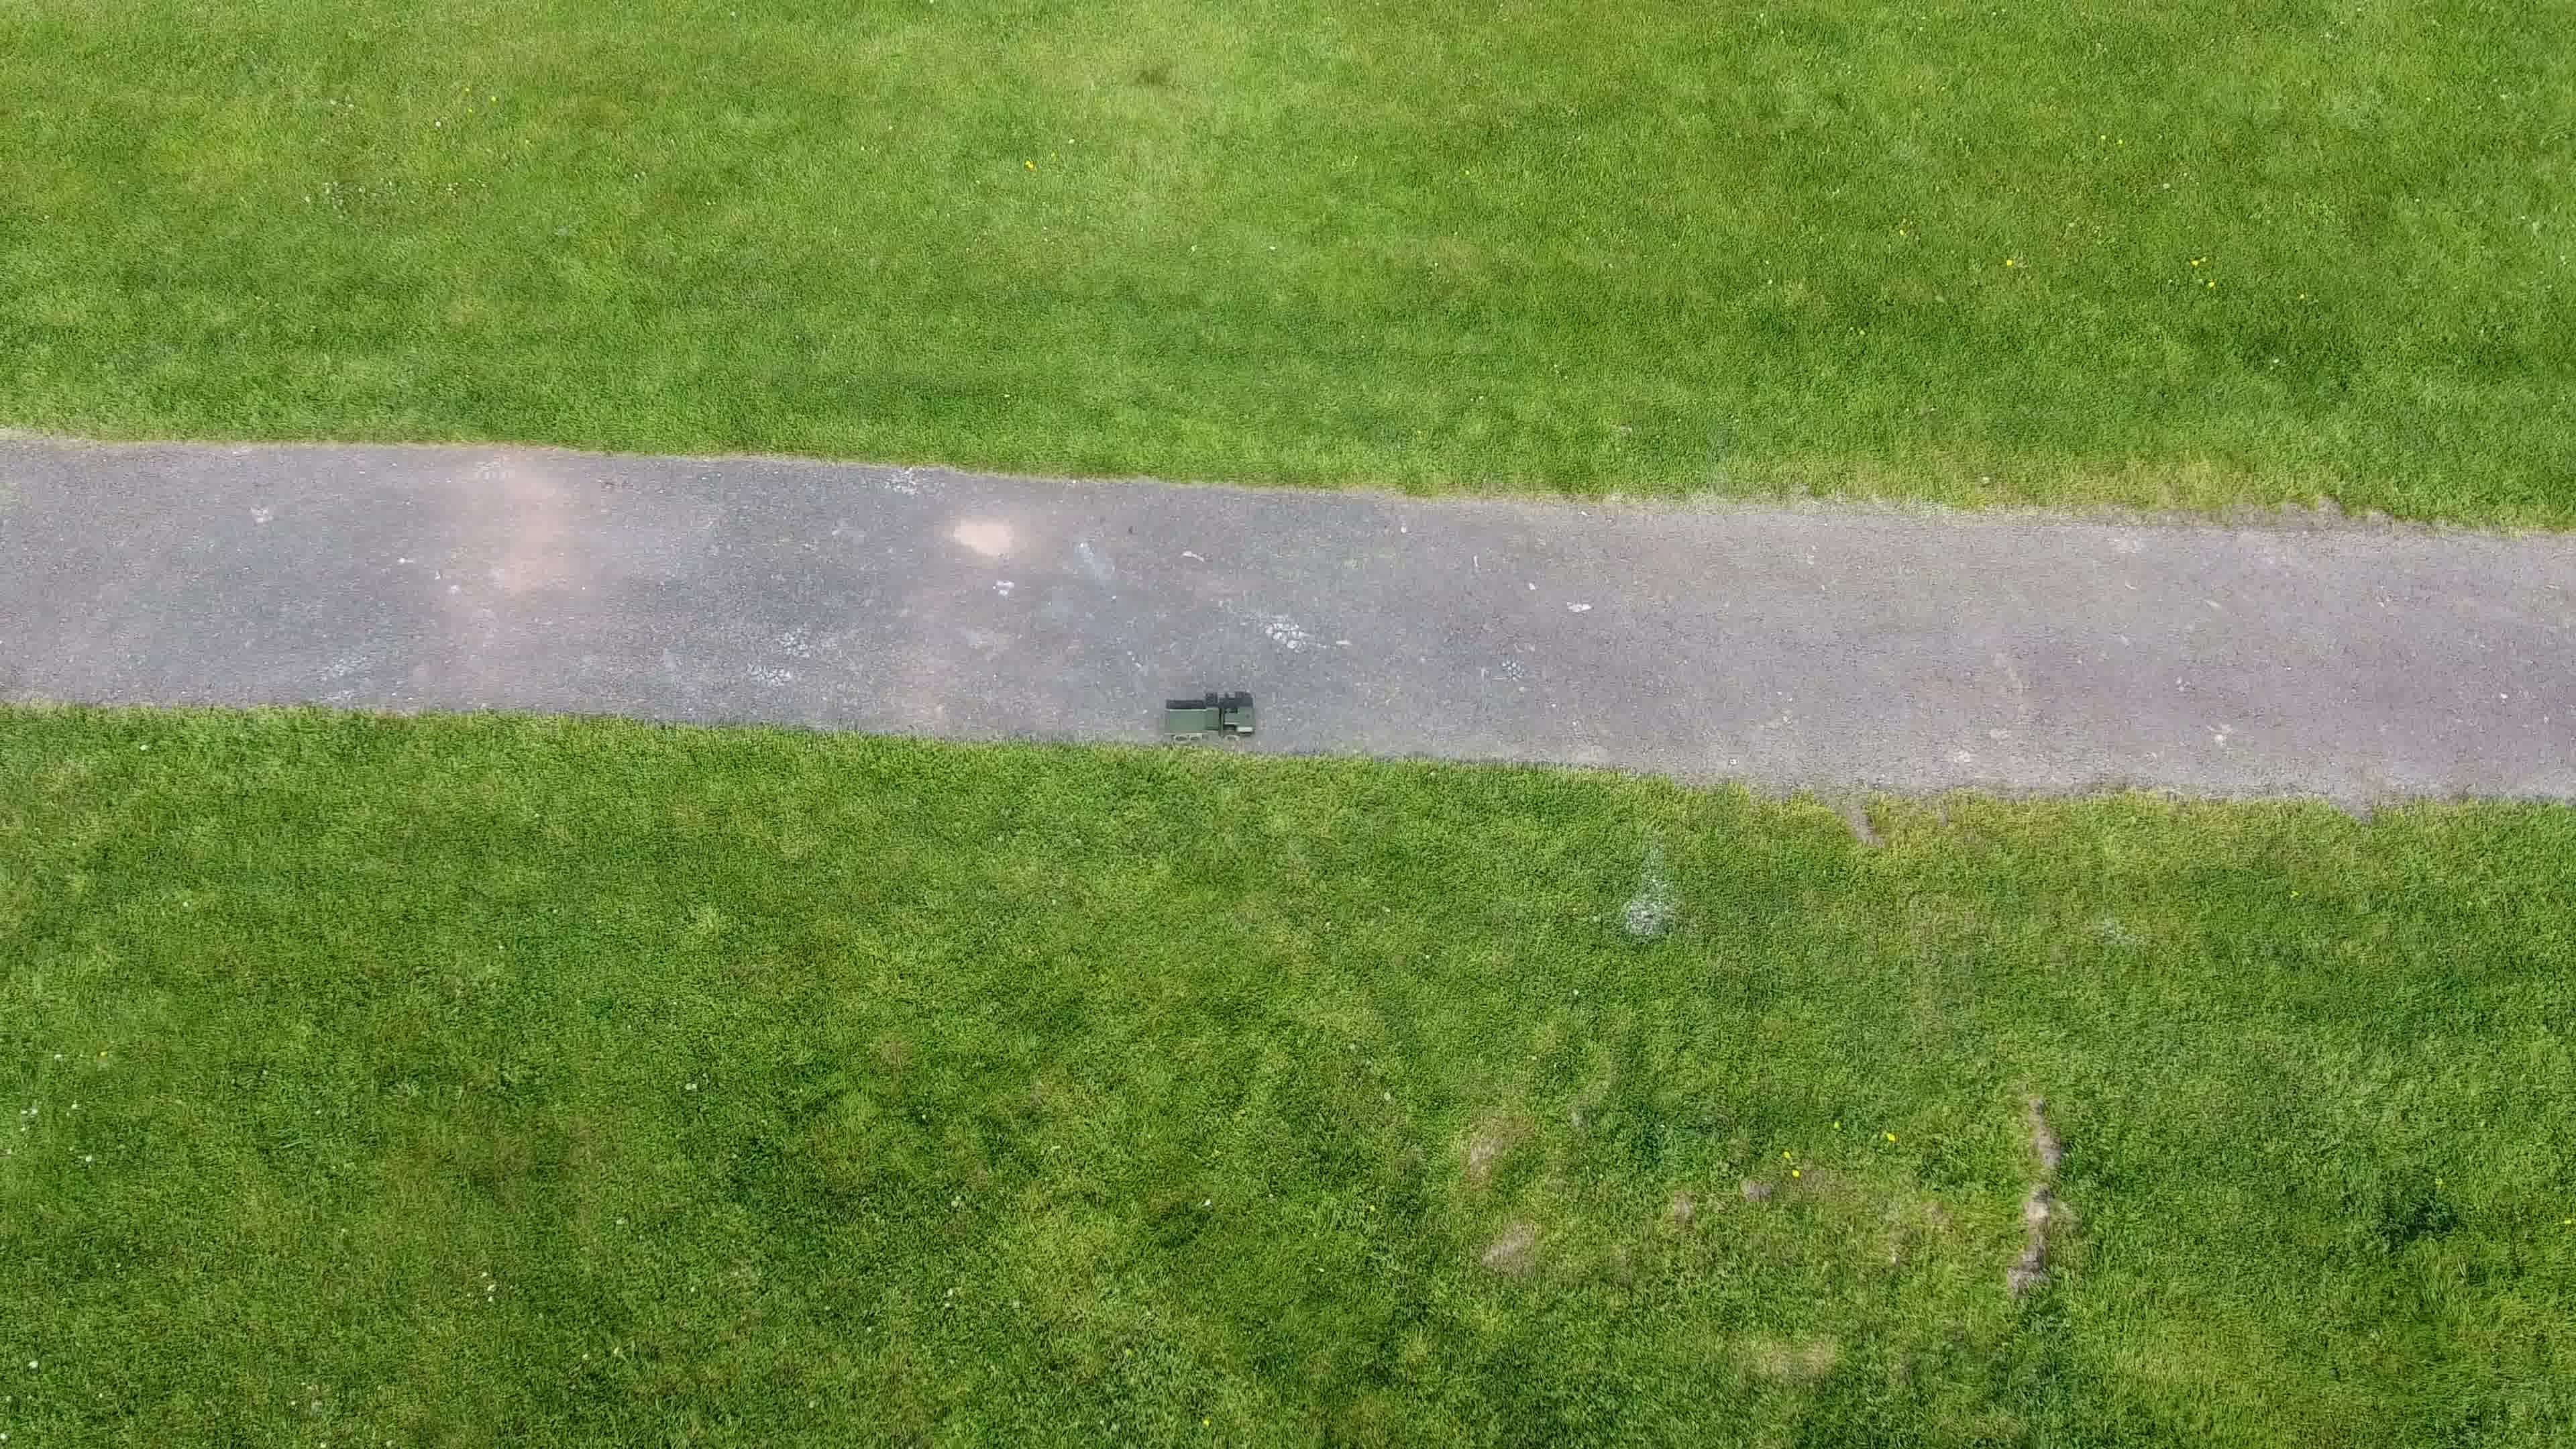transporter9: (1159, 697, 1263, 745)
